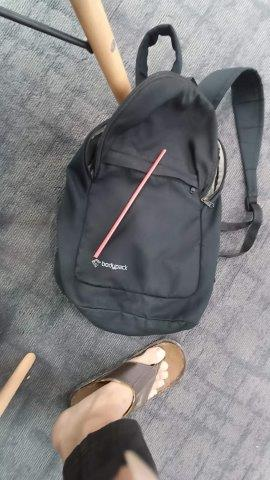sedotan: (94, 149, 166, 256)
